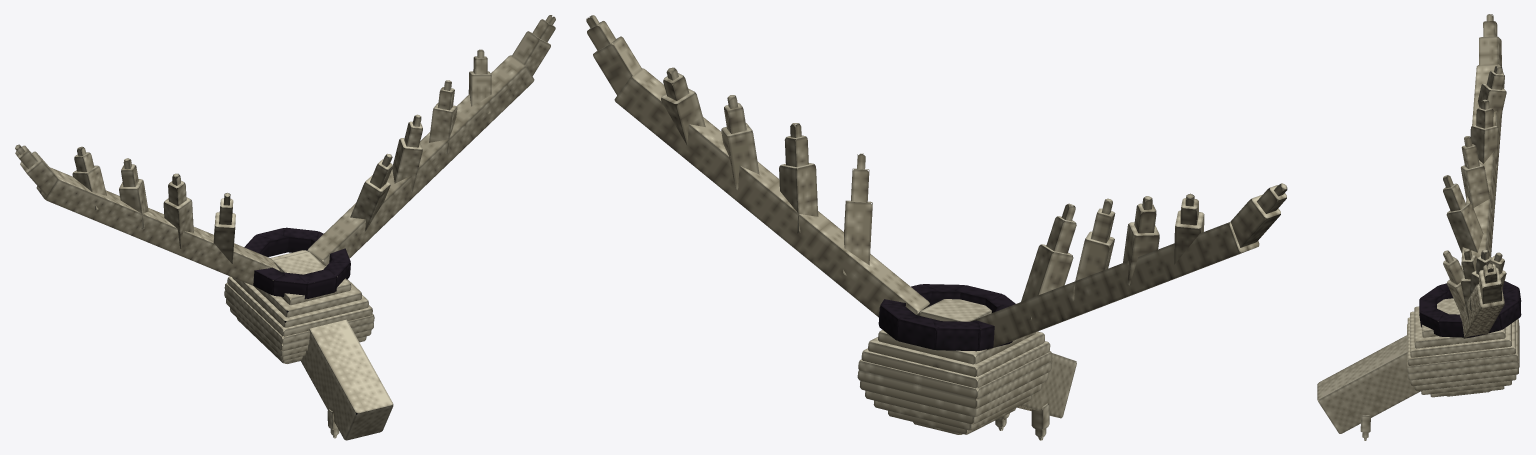
File: trophy_blackbriar_antlers.obj
3 views of the same model, side by side, from view 1: azimuth 30°, elevation 25°; view 2: azimuth 150°, elevation 25°; view 3: azimuth 270°, elevation 25° (orthographic). The views are drawn at different scales.
Parts seen in each view (by area): view 1: lit; view 2: lit; view 3: lit.
Boxes of the visible parts, x1,y1,x2,y2 form: lit: (15,15,555,440); lit: (586,15,1287,440); lit: (1317,14,1521,440).
Size of the model in its own units: 0.95 by 0.5151 by 0.3232.
